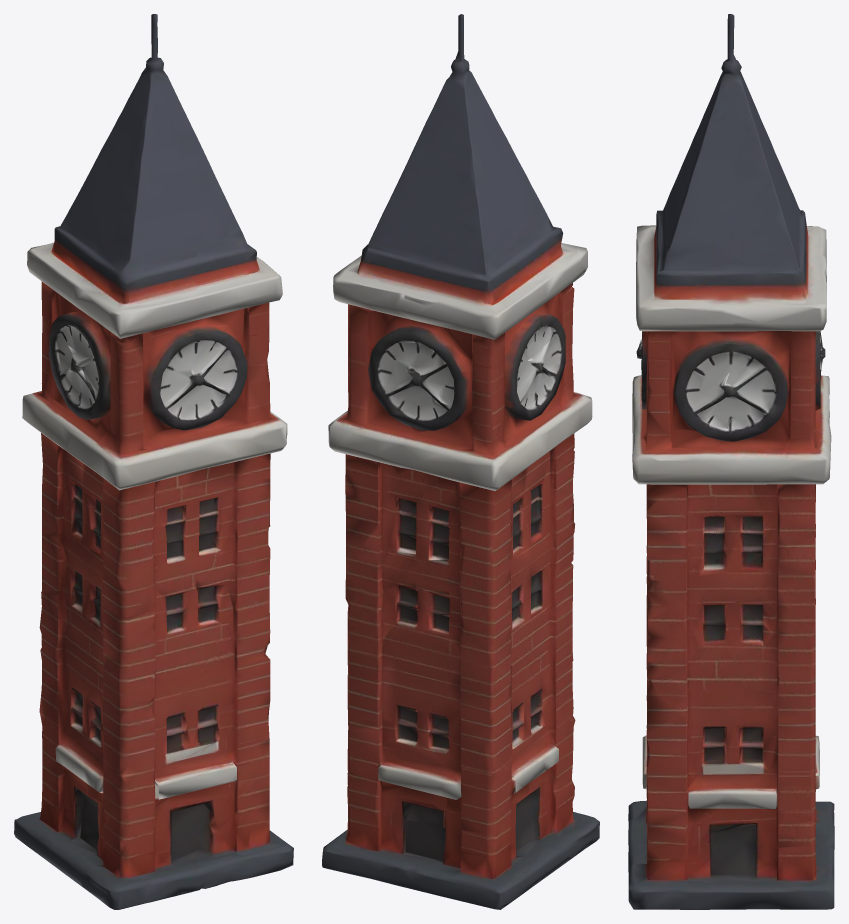
File: clock-tower.glb
3 views of the same model, side by side, from view 1: azimuth 30°, elevation 25°; view 2: azimuth 150°, elevation 25°; view 3: azimuth 270°, elevation 25° (orthographic).
Parts seen in each view (by area): view 1: clock-tower-0; view 2: clock-tower-0; view 3: clock-tower-0.
Boxes of the visible parts, box(x1,y1,x2,y2) form: clock-tower-0: box(14, 14, 293, 909); clock-tower-0: box(322, 14, 599, 909); clock-tower-0: box(628, 14, 834, 909).
Size of the model in its own units: 0.2297 by 1 by 0.2196.
1 material, 1 textured.
